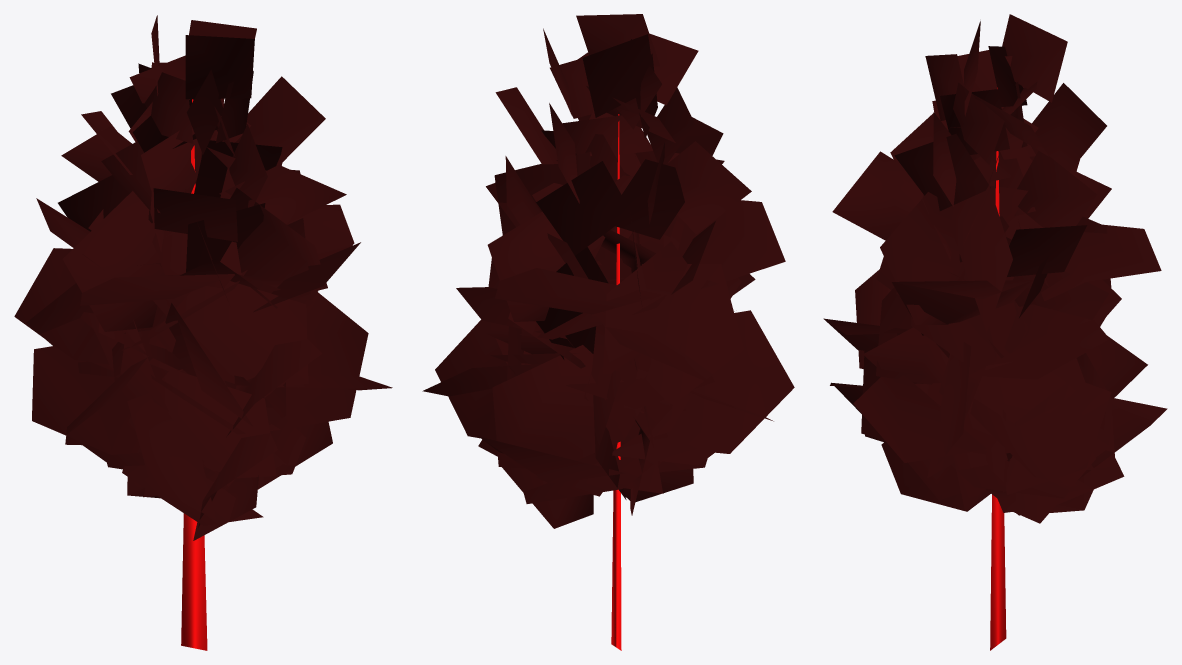
File: SM_Tree_Birch_01_LOD01.fbx
The picture shows the model from 3 angles, left to right: view 1: azimuth 30°, elevation 25°; view 2: azimuth 150°, elevation 25°; view 3: azimuth 270°, elevation 25°; orthographic projection. The views are drawn at different scales.
Visible parts, largest first — view 1: SM_Tree_Birch_01_LOD01; view 2: SM_Tree_Birch_01_LOD01; view 3: SM_Tree_Birch_01_LOD01.
Part boxes in pixels (bbox=[...]): SM_Tree_Birch_01_LOD01: bbox=[14, 15, 392, 650]; SM_Tree_Birch_01_LOD01: bbox=[422, 14, 794, 650]; SM_Tree_Birch_01_LOD01: bbox=[823, 14, 1167, 650].
Size of the model in its own units: 245 by 457 by 231.
